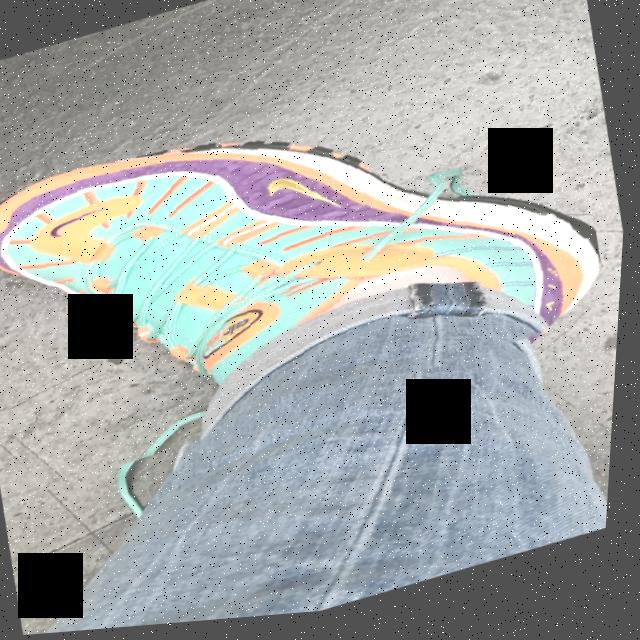shoe: (0, 31, 630, 503)
